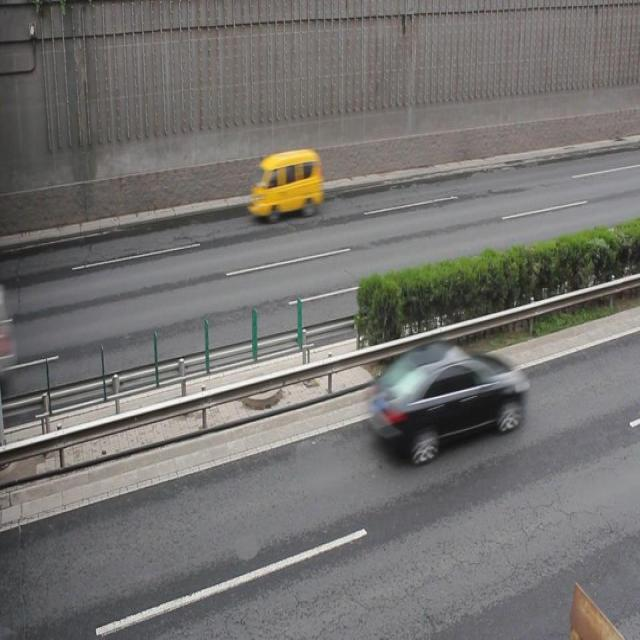car: (363, 339, 525, 463)
truck: (250, 149, 320, 222)
